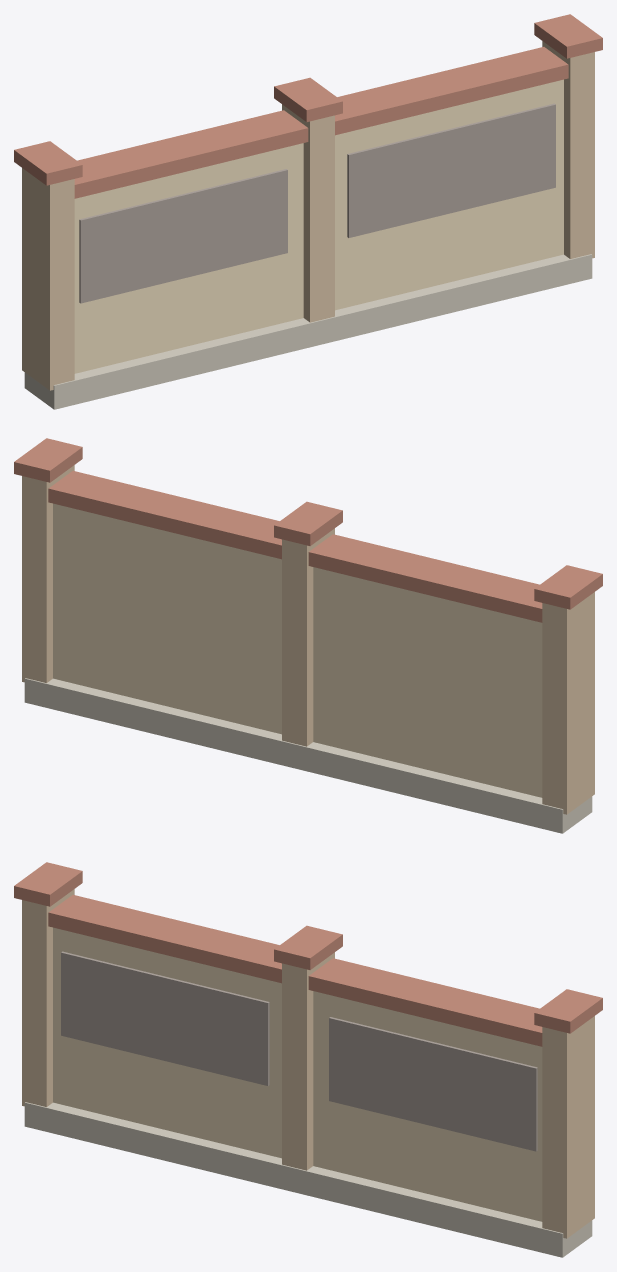
The model's file is boundary_wall_6m.glb.
The picture shows the model from 3 angles, top to bottom: view 1: azimuth 30°, elevation 25°; view 2: azimuth 150°, elevation 25°; view 3: azimuth 330°, elevation 25°; orthographic projection.
Parts seen in each view (by area): view 1: GEO-plaster wall, GEO-wall inset, GEO-wall inset.001, GEO-cap, GEO-footing, GEO-pier, GEO-pier.001, GEO-pier.002, GEO-pier cap.001, GEO-pier cap.002, GEO-pier cap; view 2: GEO-plaster wall, GEO-cap, GEO-footing, GEO-pier, GEO-pier.001, GEO-pier.002, GEO-pier cap.001, GEO-pier cap.002, GEO-pier cap; view 3: GEO-plaster wall, GEO-wall inset.001, GEO-wall inset, GEO-cap, GEO-footing, GEO-pier.002, GEO-pier.001, GEO-pier, GEO-pier cap, GEO-pier cap.001, GEO-pier cap.002.
Boxes of the visible parts, bbox=[...] form: GEO-plaster wall: bbox=[74, 79, 563, 373]; GEO-wall inset: bbox=[79, 169, 287, 303]; GEO-wall inset.001: bbox=[347, 103, 555, 237]; GEO-cap: bbox=[74, 47, 568, 198]; GEO-footing: bbox=[24, 254, 592, 409]; GEO-pier: bbox=[22, 168, 74, 390]; GEO-pier.001: bbox=[282, 104, 334, 322]; GEO-pier.002: bbox=[542, 41, 594, 258]; GEO-pier cap.001: bbox=[274, 77, 342, 121]; GEO-pier cap.002: bbox=[534, 14, 602, 58]; GEO-pier cap: bbox=[14, 141, 82, 185]; GEO-plaster wall: bbox=[53, 503, 542, 797]; GEO-cap: bbox=[48, 471, 542, 622]; GEO-footing: bbox=[24, 678, 592, 833]; GEO-pier: bbox=[542, 592, 594, 814]; GEO-pier.001: bbox=[282, 528, 334, 746]; GEO-pier.002: bbox=[22, 465, 74, 682]; GEO-pier cap.001: bbox=[274, 501, 342, 545]; GEO-pier cap.002: bbox=[14, 438, 82, 482]; GEO-pier cap: bbox=[534, 565, 602, 609]; GEO-plaster wall: bbox=[53, 927, 542, 1221]; GEO-wall inset.001: bbox=[329, 1017, 537, 1151]; GEO-wall inset: bbox=[61, 951, 269, 1085]; GEO-cap: bbox=[48, 895, 542, 1046]; GEO-footing: bbox=[24, 1102, 592, 1257]; GEO-pier.002: bbox=[542, 1016, 594, 1238]; GEO-pier.001: bbox=[282, 952, 334, 1170]; GEO-pier: bbox=[22, 889, 74, 1106]; GEO-pier cap: bbox=[14, 862, 82, 906]; GEO-pier cap.001: bbox=[274, 925, 342, 969]; GEO-pier cap.002: bbox=[534, 989, 602, 1033].
Bounding box in the file's own units: 6.31 × 2.59 × 0.64.
